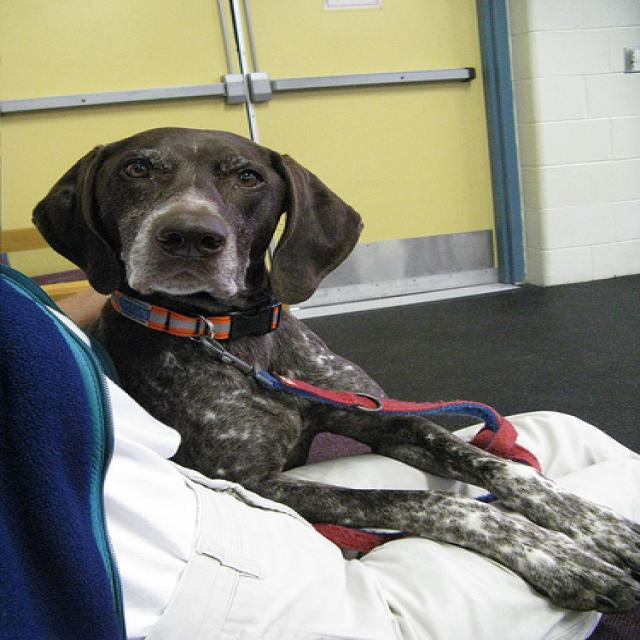dog-german_shorthaired: (24, 115, 637, 620)
